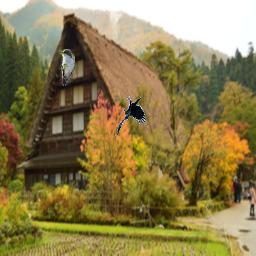Crow: (117, 96, 146, 136)
Cuckoo: (59, 49, 75, 86)
